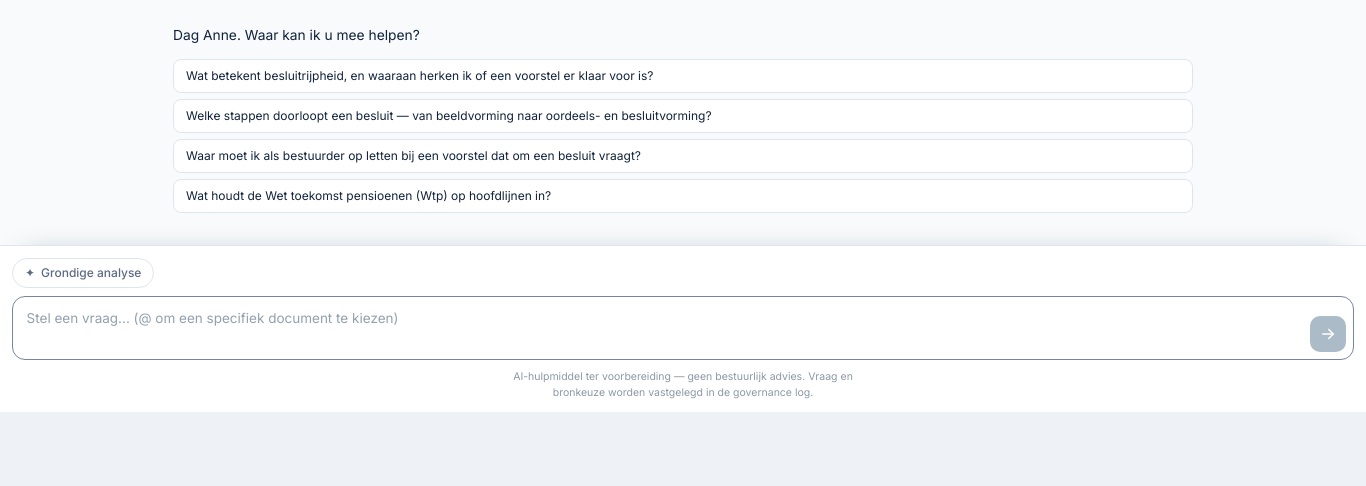
Scenario: AssistentClient — SSE-verwerking › stuurt het volledige verzoeklichaam mee, inclusief het auditspoor
The image size is (1366, 486).
Type "Wat is onze dekkingsgraad?" into the text box with placeholder "Stel een vraag... (@ om een specifiek document te kiezen)" at (683, 328), box [13, 297, 1353, 360]
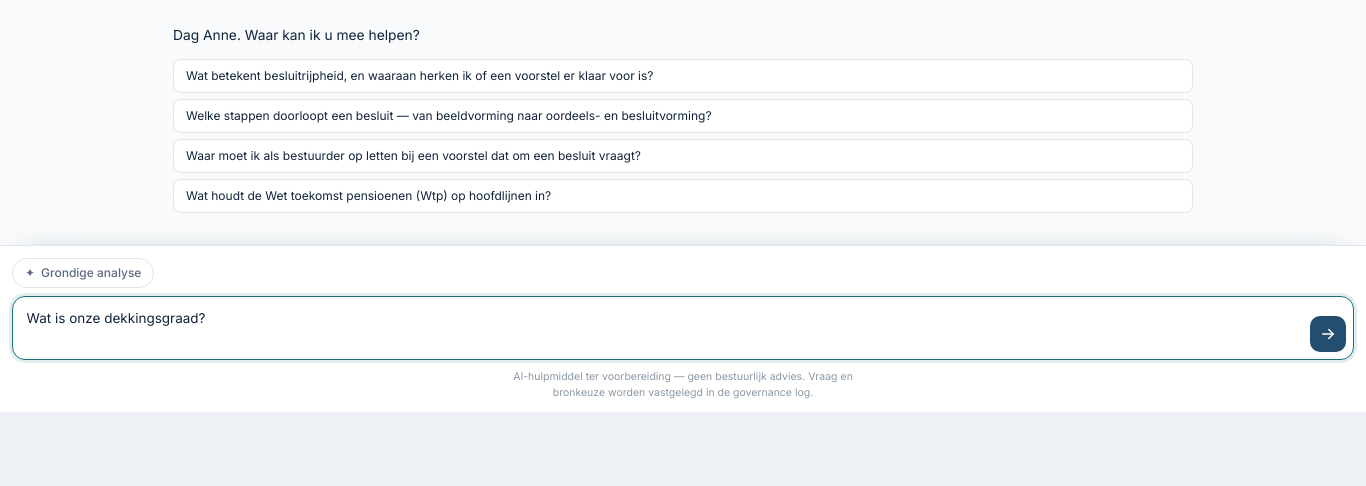
Click the button named "Vraag versturen" at (1328, 334), box [1310, 316, 1346, 352]
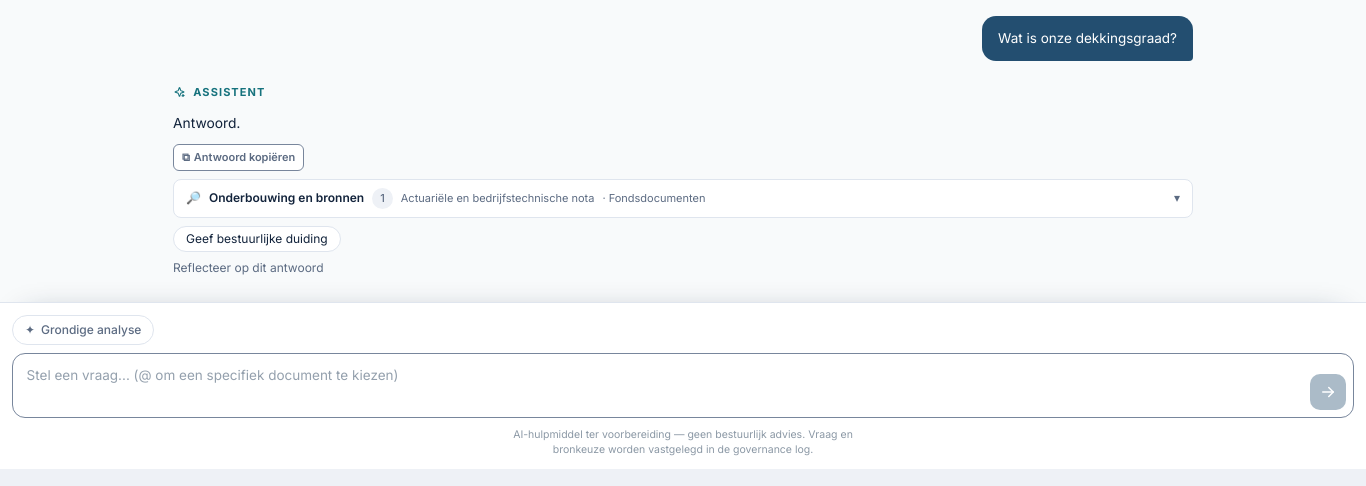
Now the text "Antwoord." is shown, box [173, 115, 240, 131]
